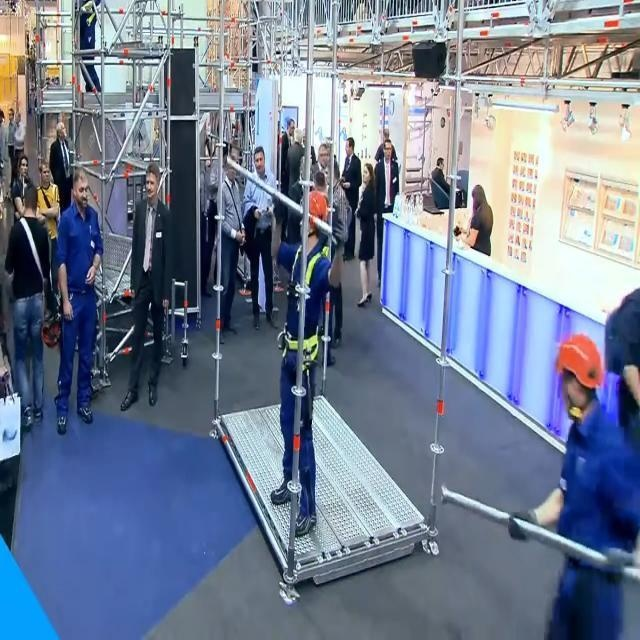Arnes_seguridad: (285, 238, 328, 378)
